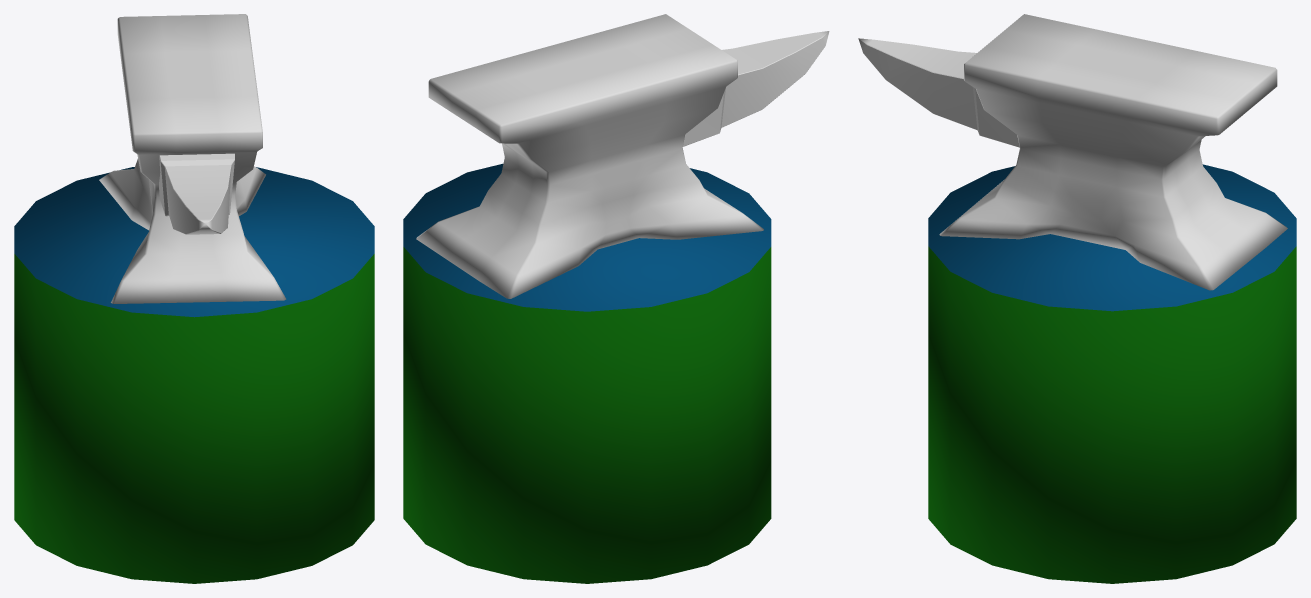
The model's file is BlackSmith_Anvil.fbx.
3 views of the same model, side by side, from view 1: azimuth 30°, elevation 25°; view 2: azimuth 150°, elevation 25°; view 3: azimuth 270°, elevation 25° (orthographic). The views are drawn at different scales.
Visible parts, largest first — view 1: Cylinder005, Box008, Box009; view 2: Cylinder005, Box008, Box009; view 3: Cylinder005, Box008, Box009.
Part boxes in pixels (box(x1,y1,x2,y2)): Cylinder005: box(14, 167, 374, 583); Box008: box(99, 14, 286, 303); Box009: box(159, 153, 234, 234); Cylinder005: box(403, 163, 771, 583); Box008: box(416, 14, 763, 298); Box009: box(683, 31, 829, 146); Cylinder005: box(928, 164, 1296, 583); Box008: box(939, 14, 1287, 290); Box009: box(858, 38, 1019, 147).
Bounding box in the file's own units: 99.64 × 129 × 117.
